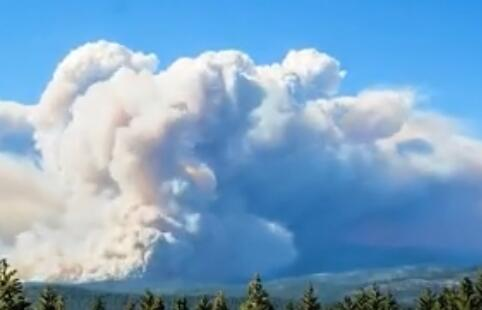yanwu: (1, 35, 480, 282)
